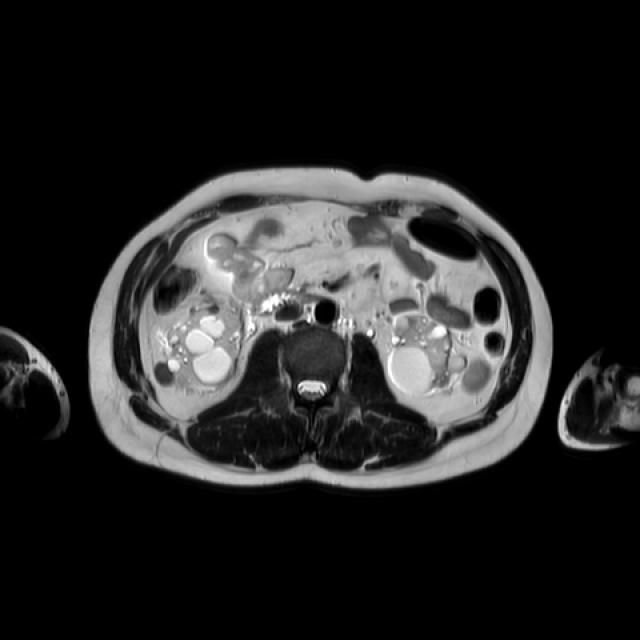sag: (155, 289, 243, 396)
sol: (387, 312, 492, 398)
